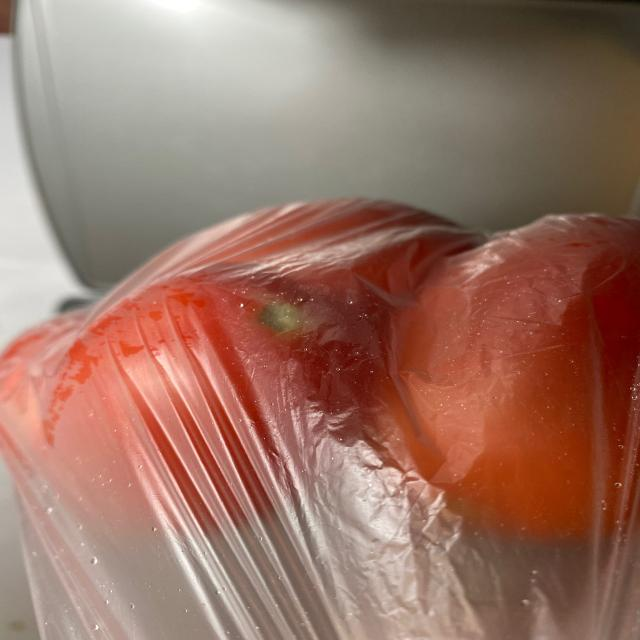tomato: (18, 206, 633, 551)
